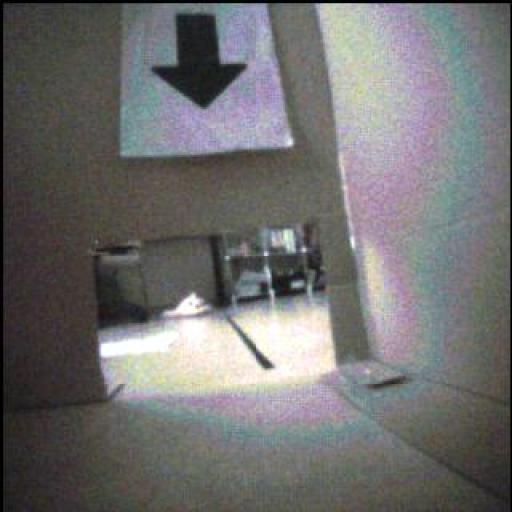arrow: (153, 15, 247, 110)
